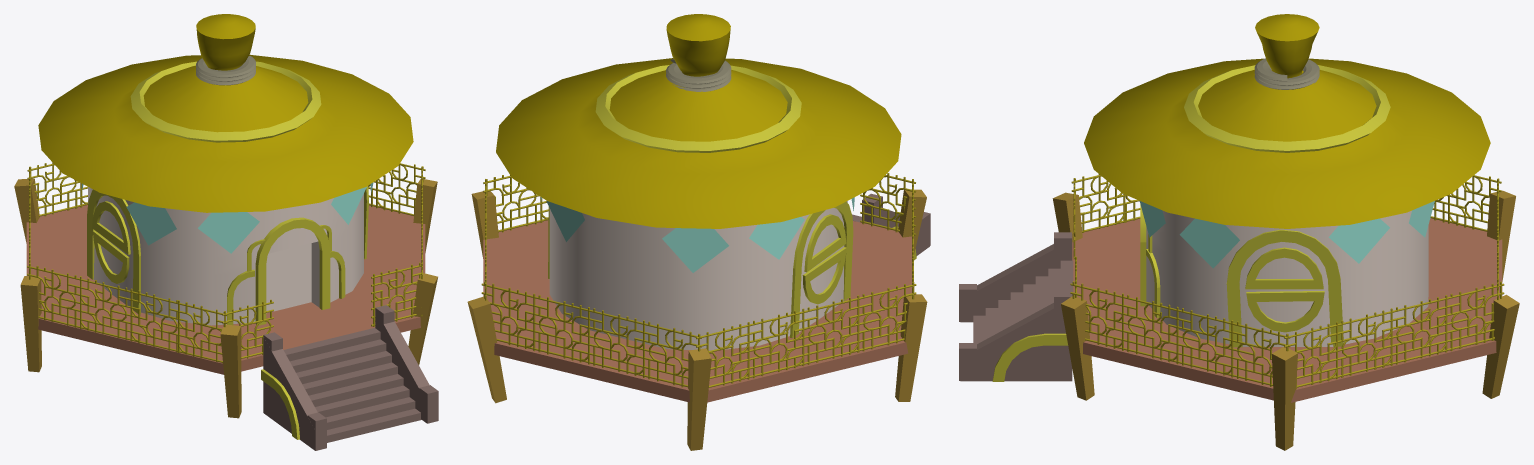
Rendered from house be.fbx.
The picture shows the model from 3 angles, left to right: view 1: azimuth 30°, elevation 25°; view 2: azimuth 150°, elevation 25°; view 3: azimuth 270°, elevation 25°; orthographic projection. The views are drawn at different scales.
Parts seen in each view (by area): view 1: pCone3, pCube38, pCylinder10, pCube48, pasted__pCylinder44, pCube49, pPlane5; view 2: pCone3, pCube38, pCylinder10, pasted__pCylinder44, pCube49, pPlane5, pCube48; view 3: pCone3, pCube38, pCylinder10, pasted__pCylinder44, pCube48, pCube49, pPlane5.
Part boxes in pixels (x1,y1,x2,y2): pCone3: [38, 14, 413, 212]; pCube38: [87, 186, 368, 325]; pCylinder10: [26, 205, 425, 374]; pCube48: [261, 305, 438, 450]; pasted__pCylinder44: [27, 162, 425, 363]; pCube49: [14, 178, 437, 418]; pPlane5: [82, 182, 373, 253]; pCone3: [496, 14, 901, 228]; pCube38: [548, 201, 853, 350]; pCylinder10: [483, 220, 911, 402]; pasted__pCylinder44: [481, 173, 916, 387]; pCube49: [467, 189, 927, 450]; pPlane5: [541, 197, 854, 272]; pCube48: [852, 193, 930, 260]; pCone3: [1084, 14, 1490, 228]; pCube38: [1140, 204, 1428, 347]; pCylinder10: [1072, 218, 1502, 402]; pasted__pCylinder44: [1070, 174, 1504, 388]; pCube48: [959, 232, 1073, 381]; pCube49: [1052, 190, 1519, 450]; pPlane5: [1139, 201, 1434, 268].
Size of the model in its own units: 14.72 by 10.25 by 15.8.
